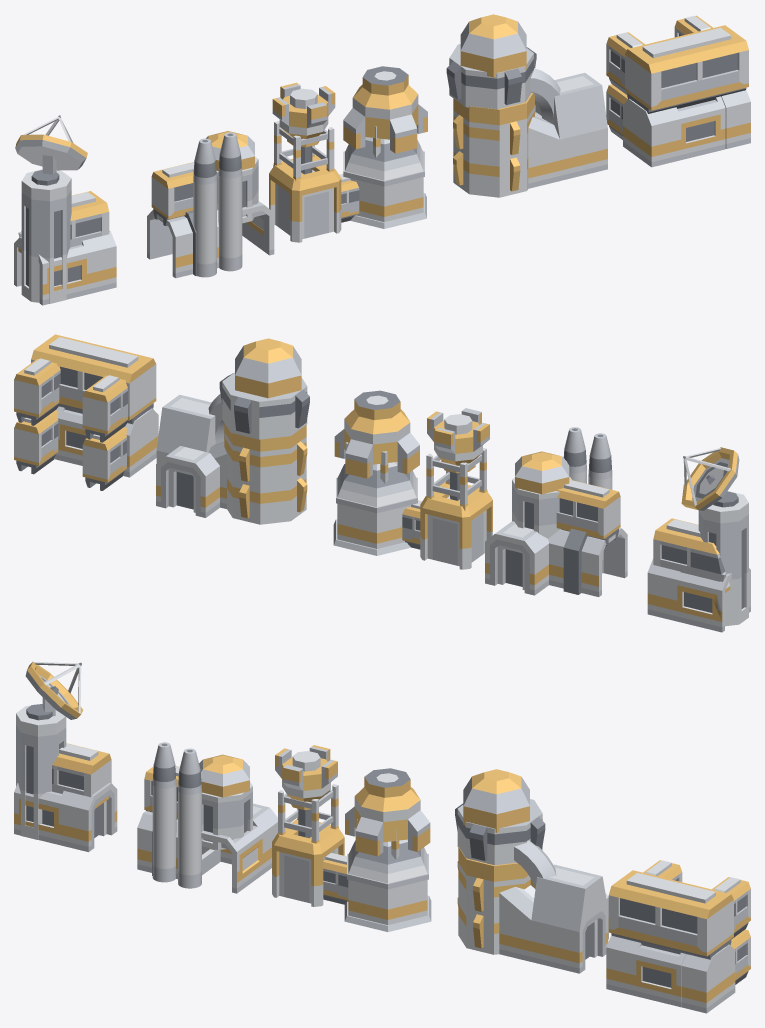
File: buildings_3.fbx
3 renders of one model, top to bottom at view 1: azimuth 30°, elevation 25°; view 2: azimuth 150°, elevation 25°; view 3: azimuth 330°, elevation 25°, orthographic.
Visible parts, largest first — view 1: build_2_G3, build_3_G3, build_1_G3, build_factory_G3, build_locator_G3; view 2: build_2_G3, build_3_G3, build_1_G3, build_factory_G3, build_locator_G3; view 3: build_3_G3, build_2_G3, build_1_G3, build_factory_G3, build_locator_G3.
Boxes of the visible parts, <box> form: build_2_G3: <box>446,14,607,197</box>; build_3_G3: <box>269,66,427,242</box>; build_1_G3: <box>606,15,750,167</box>; build_factory_G3: <box>147,131,274,278</box>; build_locator_G3: <box>14,115,116,305</box>; build_2_G3: <box>156,338,309,524</box>; build_3_G3: <box>333,390,492,569</box>; build_1_G3: <box>14,334,158,490</box>; build_factory_G3: <box>485,427,627,596</box>; build_locator_G3: <box>647,447,750,632</box>; build_3_G3: <box>272,745,431,931</box>; build_2_G3: <box>455,769,608,973</box>; build_1_G3: <box>606,860,750,1013</box>; build_factory_G3: <box>137,742,277,893</box>; build_locator_G3: <box>14,661,117,852</box>.
Bounding box in the file's own units: 9.95 × 2.23 × 1.31.
